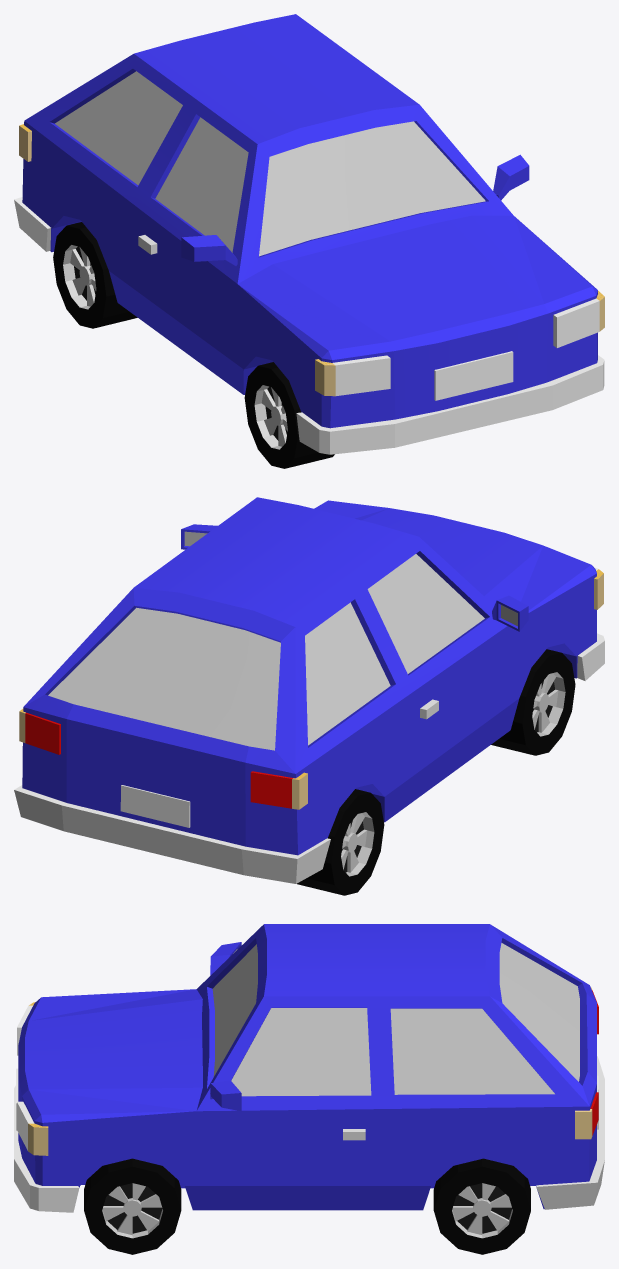
File: Car-09-B.fbx
3 views of the same model, one above another, from view 1: azimuth 30°, elevation 25°; view 2: azimuth 150°, elevation 25°; view 3: azimuth 270°, elevation 25° (orthographic). The views are drawn at different scales.
Parts seen in each view (by area): view 1: Car-09, BR, FR, Head-Light, Light-Right; view 2: Car-09, FR, BR, Break-Light, Light-Right; view 3: Car-09, FL, BL, Light-Left, Head-Light.
Part boxes in pixels (x1,y1,x2,y2): Car-09: (14,14,604,454); BR: (53,222,137,328); FR: (244,362,334,468); Head-Light: (333,298,599,395); Light-Right: (19,125,335,396); Car-09: (14,497,604,883); FR: (491,649,575,755); BR: (297,789,384,895); Break-Light: (25,713,293,808); Light-Right: (292,570,603,809); Car-09: (14,924,604,1212); FL: (84,1158,181,1254); BL: (433,1158,530,1254); Light-Left: (28,1109,592,1155); Head-Light: (17,1005,34,1150).
Bounding box in the file's own units: 2.45 × 1.79 × 4.05.
